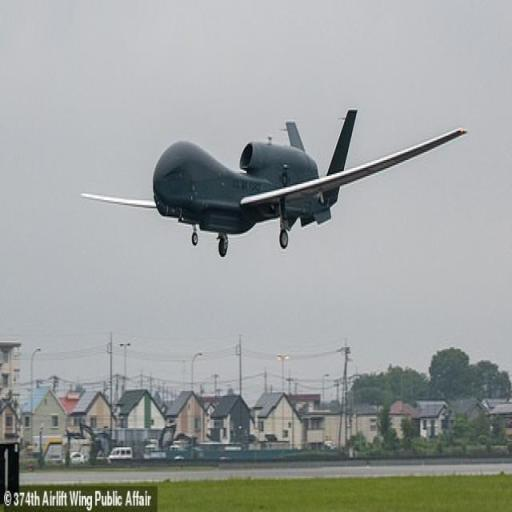uav: (76, 114, 467, 256)
